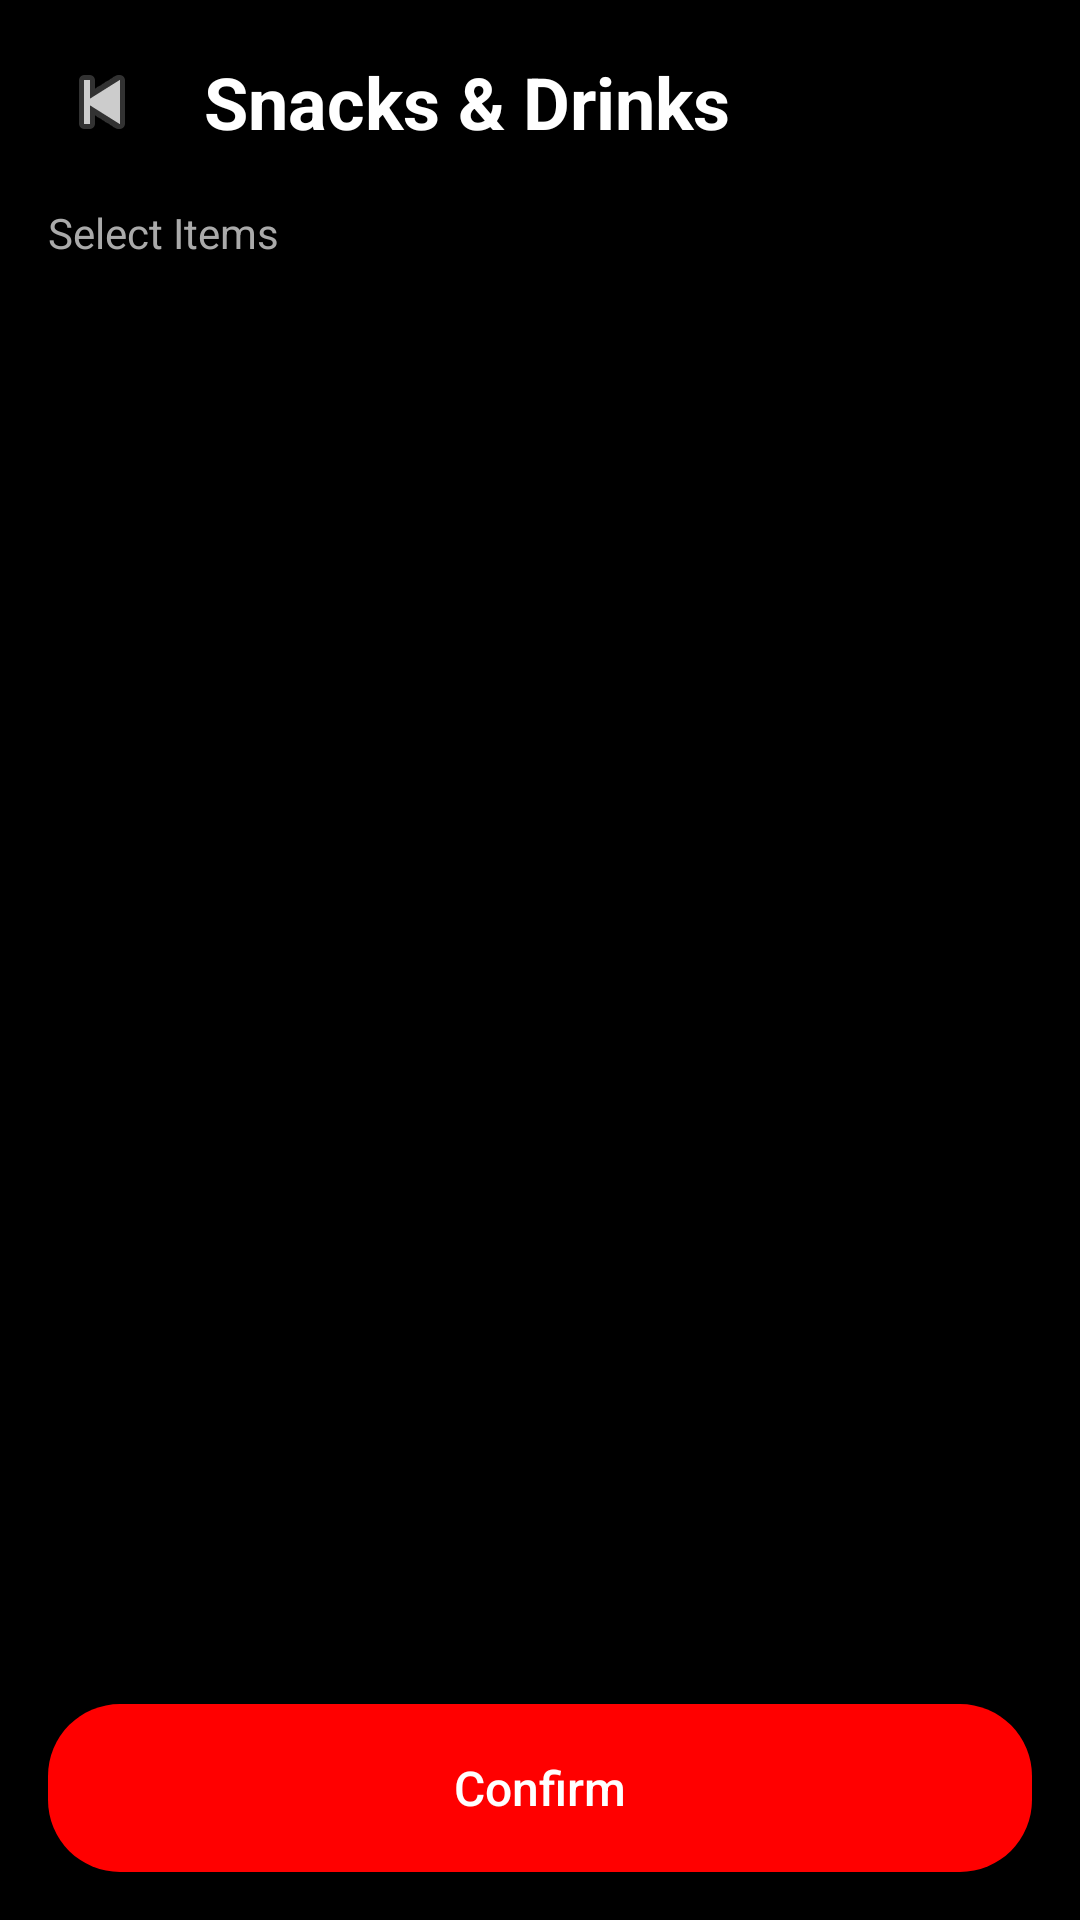

Icons on this 1080*1920 Android screen, each with the point to tap as [x,y]:
Back: [102,102]
